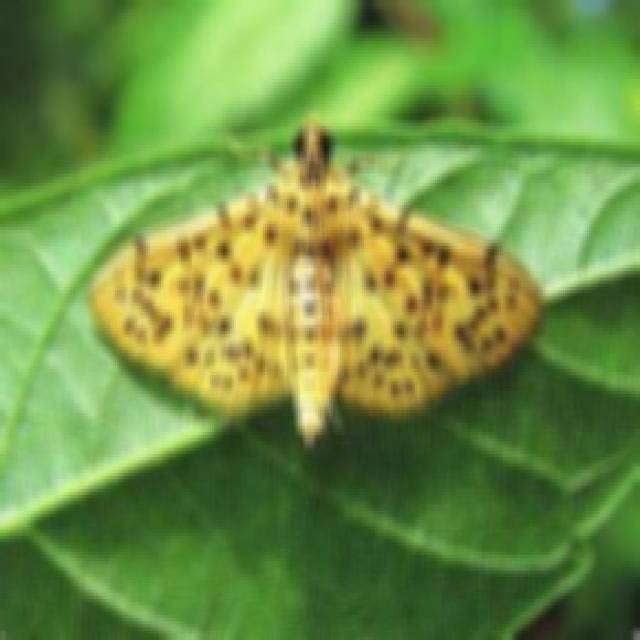peach borer: (80, 113, 575, 450)
